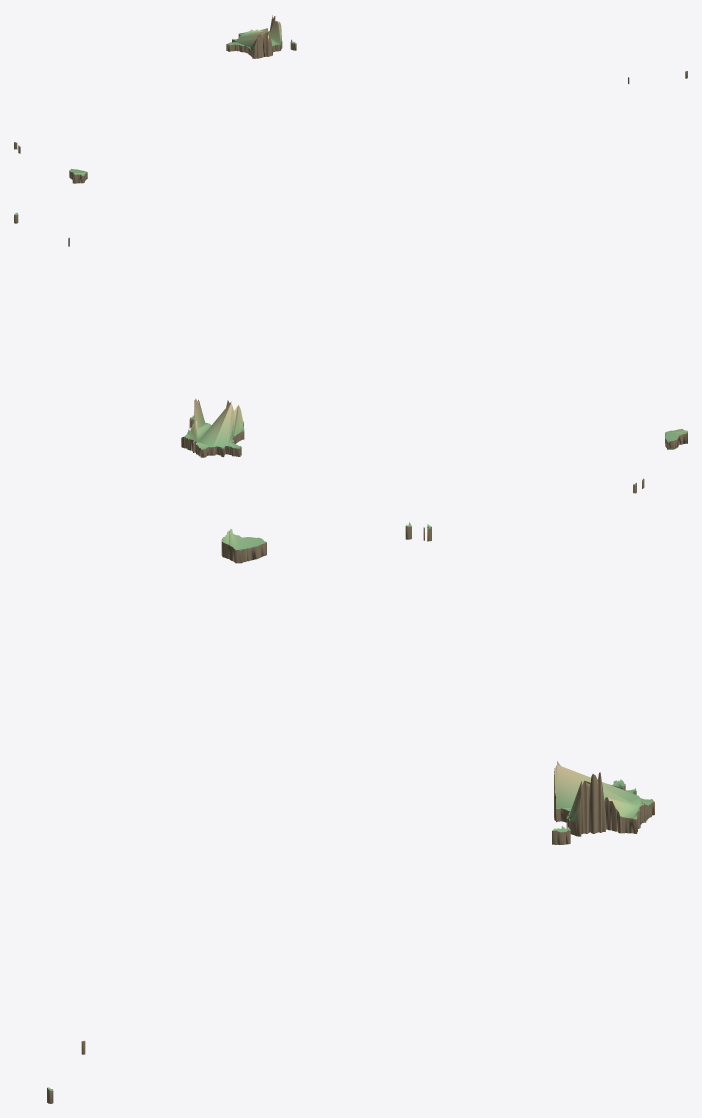
File: FRA.glb
The picture shows the model from 3 angles, top to bottom: view 1: azimuth 30°, elevation 25°; view 2: azimuth 150°, elevation 25°; view 3: azimuth 270°, elevation 25°; orthographic projection. The views are drawn at different scales.
Visible parts, largest first — view 1: FRA; view 2: FRA; view 3: FRA.
Boxes of the visible parts, box(x1,y1,x2,y2) form: FRA: box(14, 15, 687, 183); FRA: box(14, 212, 687, 493); FRA: box(47, 522, 654, 1103).
Size of the model in its own units: 1.71 by 0.0858 by 0.7796.
